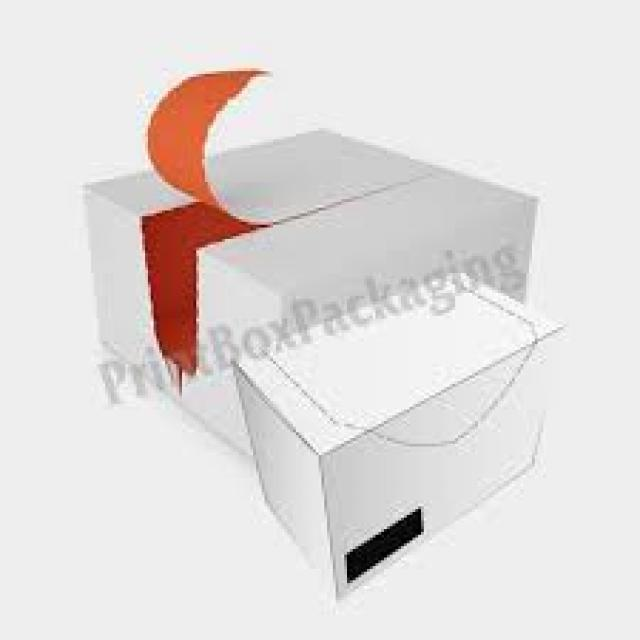tear: (134, 71, 266, 388)
